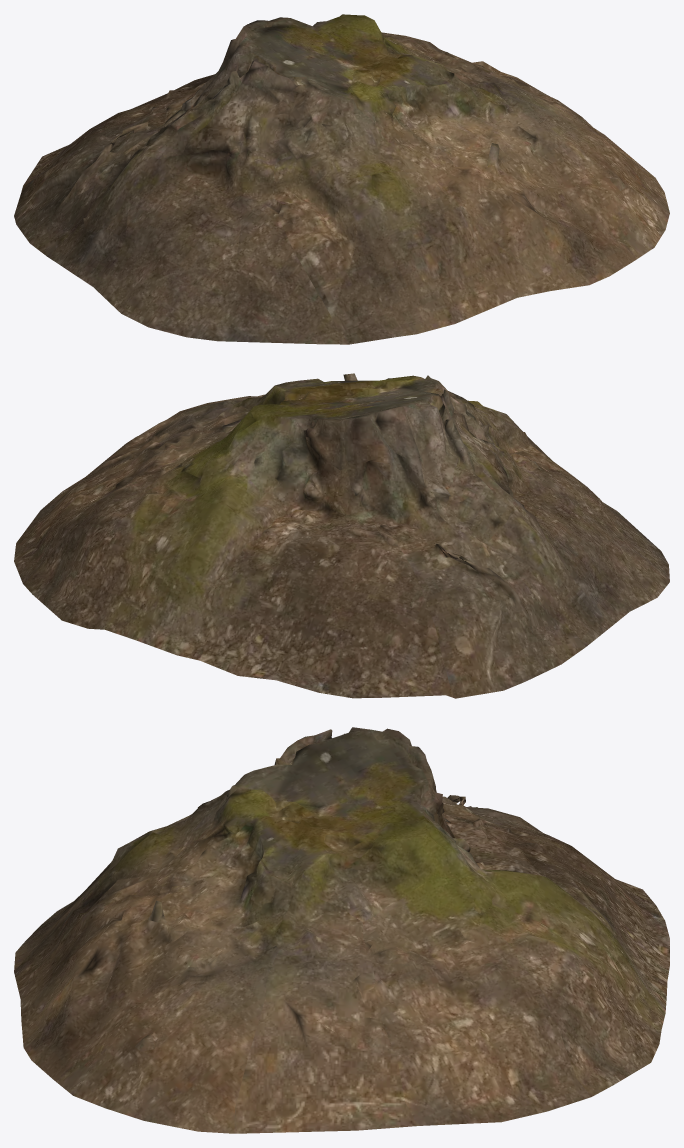
The model's file is tree_stump_02.glb.
3 renders of one model, top to bottom at view 1: azimuth 30°, elevation 25°; view 2: azimuth 150°, elevation 25°; view 3: azimuth 270°, elevation 25°, orthographic. The views are drawn at different scales.
Parts seen in each view (by area): view 1: tree_stump_02; view 2: tree_stump_02; view 3: tree_stump_02.
Part boxes in pixels (x1,y1,x2,y2): tree_stump_02: [14, 14, 669, 344]; tree_stump_02: [14, 373, 669, 698]; tree_stump_02: [14, 727, 669, 1133].
Size of the model in its own units: 1.52 by 0.5196 by 1.39.
1 material, 1 textured.
